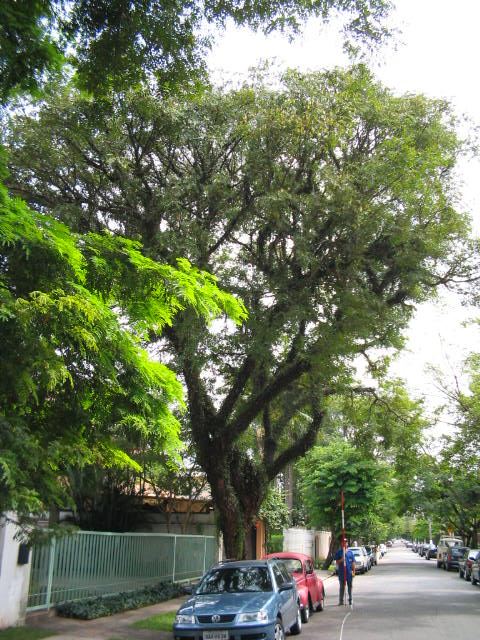crown: (5, 64, 475, 414)
stem: (210, 514, 265, 611)
stick: (334, 491, 352, 607)
tree: (3, 62, 476, 611)
